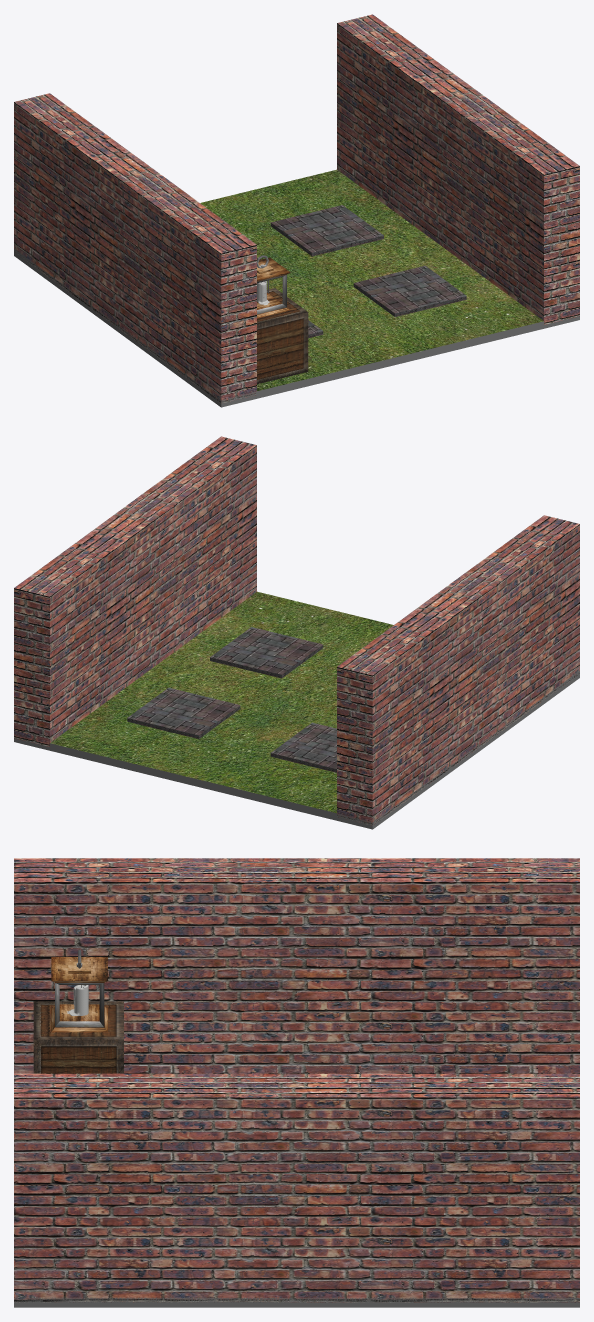
3 views of the same model, one above another, from view 1: azimuth 30°, elevation 25°; view 2: azimuth 150°, elevation 25°; view 3: azimuth 270°, elevation 25° (orthographic). The views are drawn at different scales.
Parts seen in each view (by area): view 1: Gerade_Stein_Licht; view 2: Gerade_Stein_Licht; view 3: Gerade_Stein_Licht.
Part boxes in pixels (x1,y1,x2,y2): Gerade_Stein_Licht: (14, 14, 579, 407); Gerade_Stein_Licht: (14, 436, 579, 829); Gerade_Stein_Licht: (14, 858, 579, 1307).
Bounding box in the file's own units: 5 × 2.05 × 5.
Materials: 29 (25 with a texture image).
